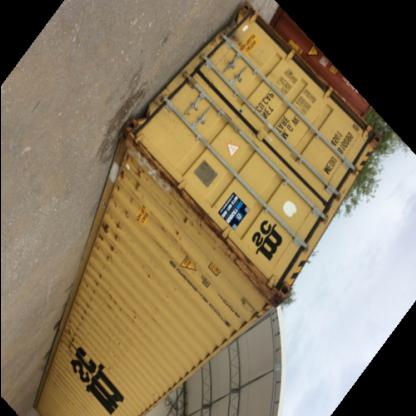Damage: (220, 236, 290, 312), (65, 264, 111, 358), (133, 138, 179, 197), (185, 186, 217, 260), (100, 160, 138, 214), (85, 219, 127, 265)
